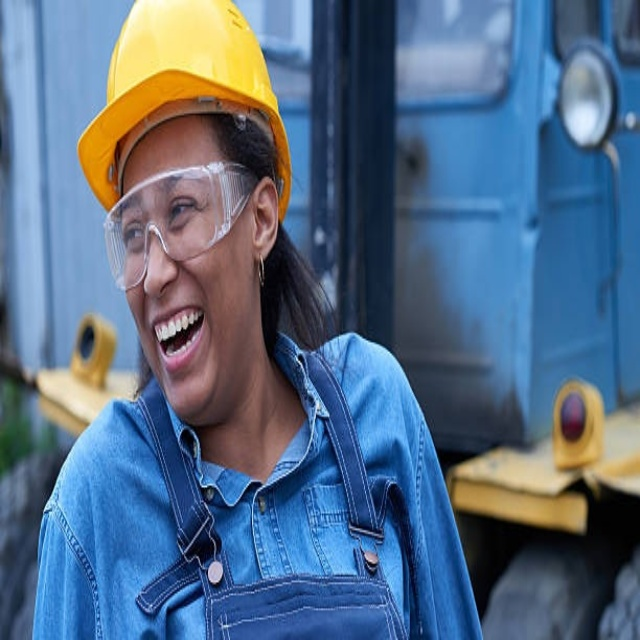Gafas: (103, 160, 260, 292)
Sin_mascara: (142, 298, 214, 393)
